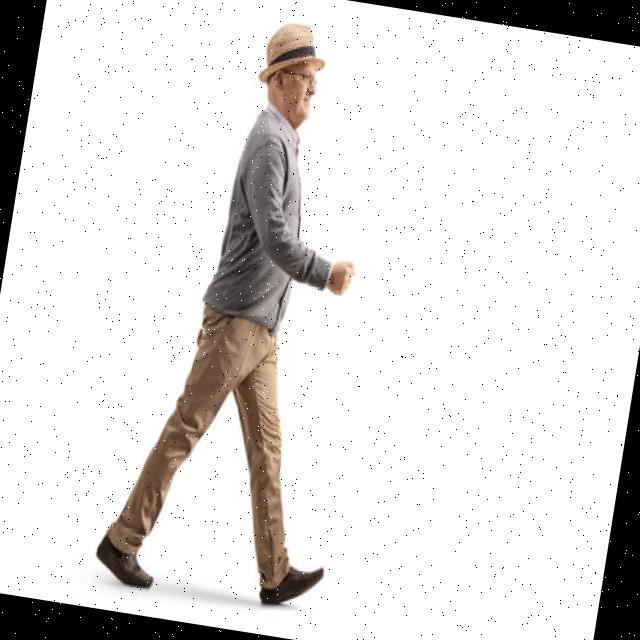Person: (92, 4, 408, 616)
